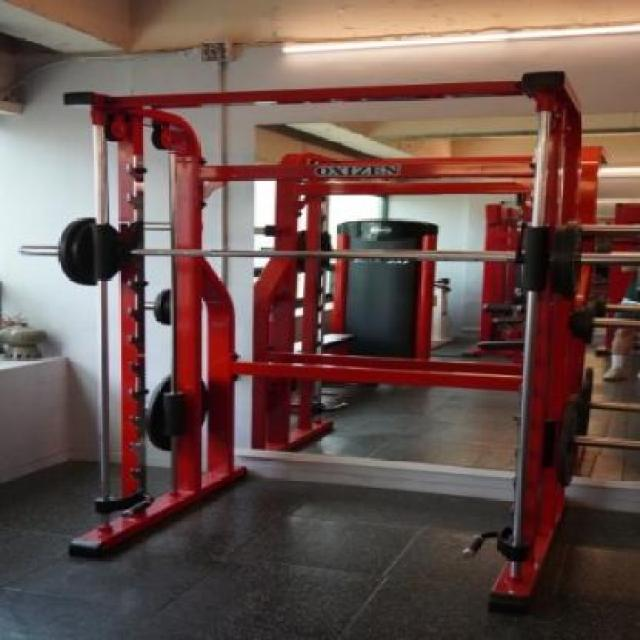smith machine: (52, 72, 640, 612)
